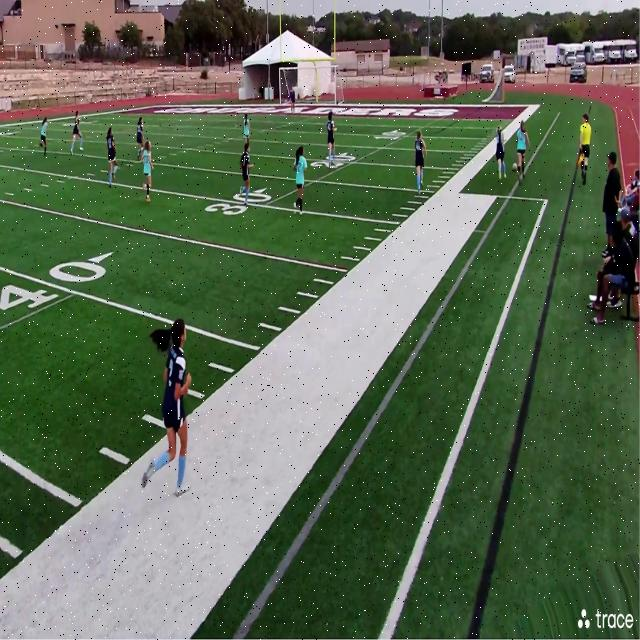Ball: (512, 159, 517, 173)
GoalKeeper: (290, 86, 298, 116)
TEAM 1: (144, 309, 201, 517), (104, 127, 120, 188), (323, 112, 339, 171), (413, 129, 427, 195), (240, 141, 252, 208), (70, 108, 85, 157), (495, 126, 507, 180), (136, 116, 144, 162)
TEAM 2: (292, 147, 309, 218), (141, 138, 154, 204), (516, 119, 529, 184), (37, 115, 50, 158), (241, 112, 251, 142)
